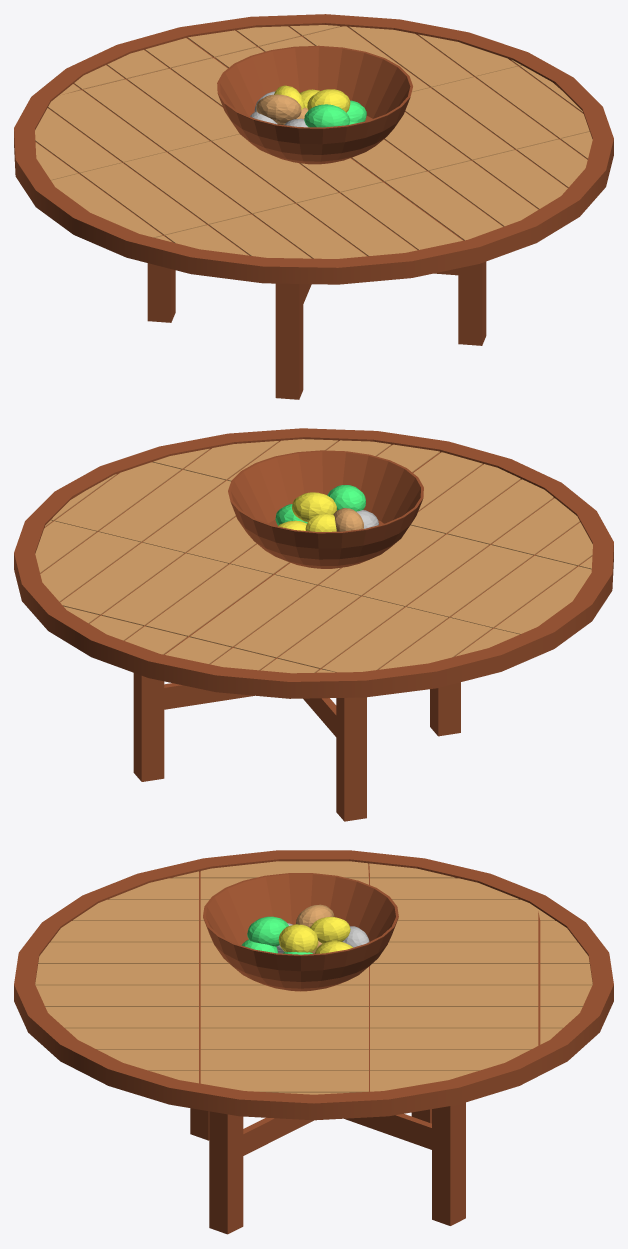
File: Bigtable.glb
The picture shows the model from 3 angles, top to bottom: view 1: azimuth 30°, elevation 25°; view 2: azimuth 150°, elevation 25°; view 3: azimuth 270°, elevation 25°; orthographic projection.
Visible parts, largest first — view 1: node-0; view 2: node-0; view 3: node-0.
Part boxes in pixels (<box>): node-0: <box>14,14,613,399</box>; node-0: <box>14,428,613,821</box>; node-0: <box>14,850,613,1234</box>.
Bounding box in the file's own units: 73908 × 34654 × 74054.
